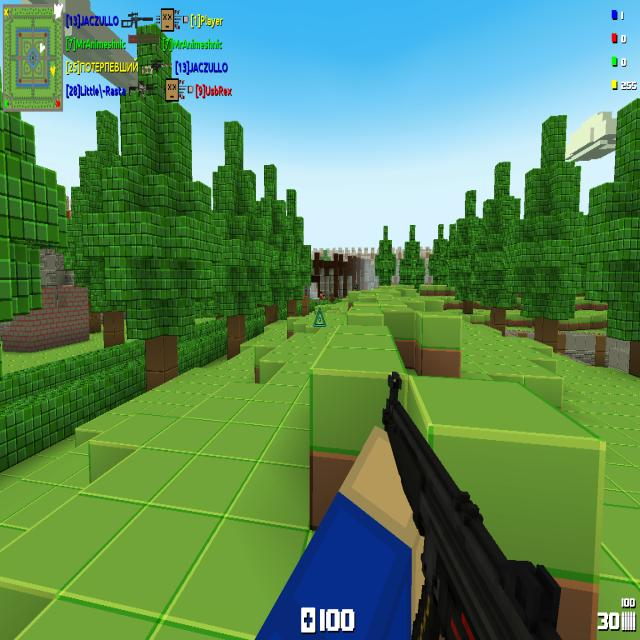enemy: (329, 294, 336, 302), (319, 291, 325, 299), (354, 284, 358, 291)
